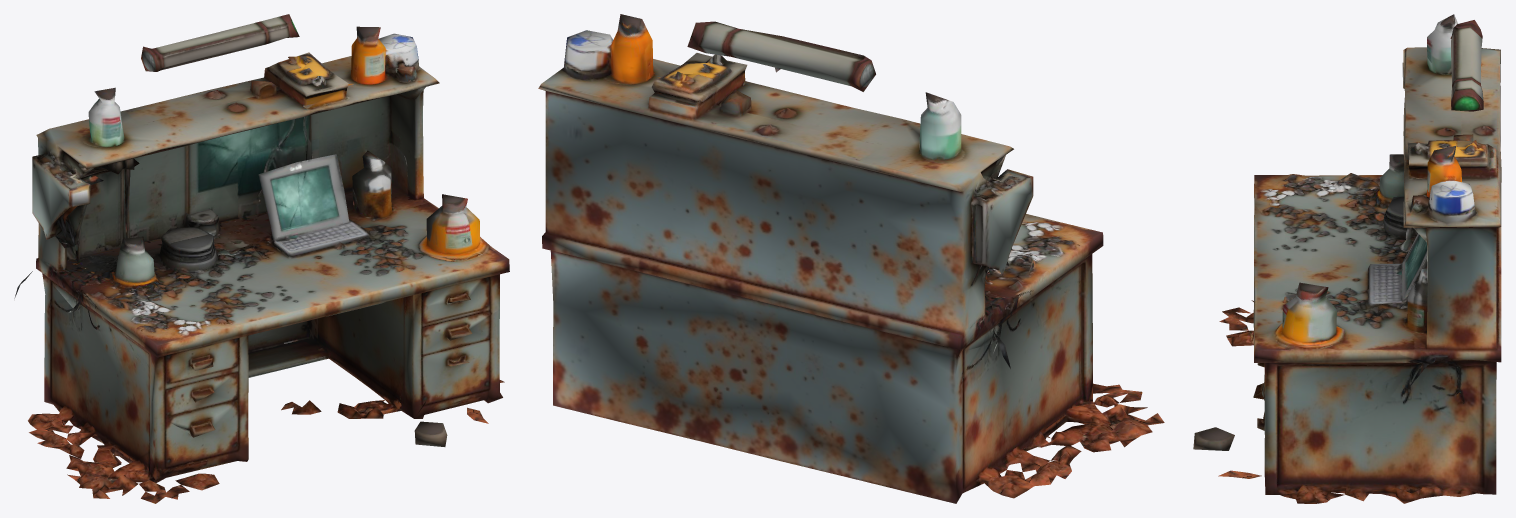
Rendered from rusted_abandoned_labo_1203061652_texture.fbx.
3 views of the same model, side by side, from view 1: azimuth 30°, elevation 25°; view 2: azimuth 150°, elevation 25°; view 3: azimuth 270°, elevation 25° (orthographic). The views are drawn at different scales.
Parts seen in each view (by area): view 1: Mesh1.0; view 2: Mesh1.0; view 3: Mesh1.0.
Part boxes in pixels (bbox=[...]): Mesh1.0: bbox=[14, 14, 509, 503]; Mesh1.0: bbox=[538, 14, 1164, 503]; Mesh1.0: bbox=[1193, 14, 1501, 503].
Bounding box in the file's own units: 181 × 138 × 110.
1 material, 1 textured.
